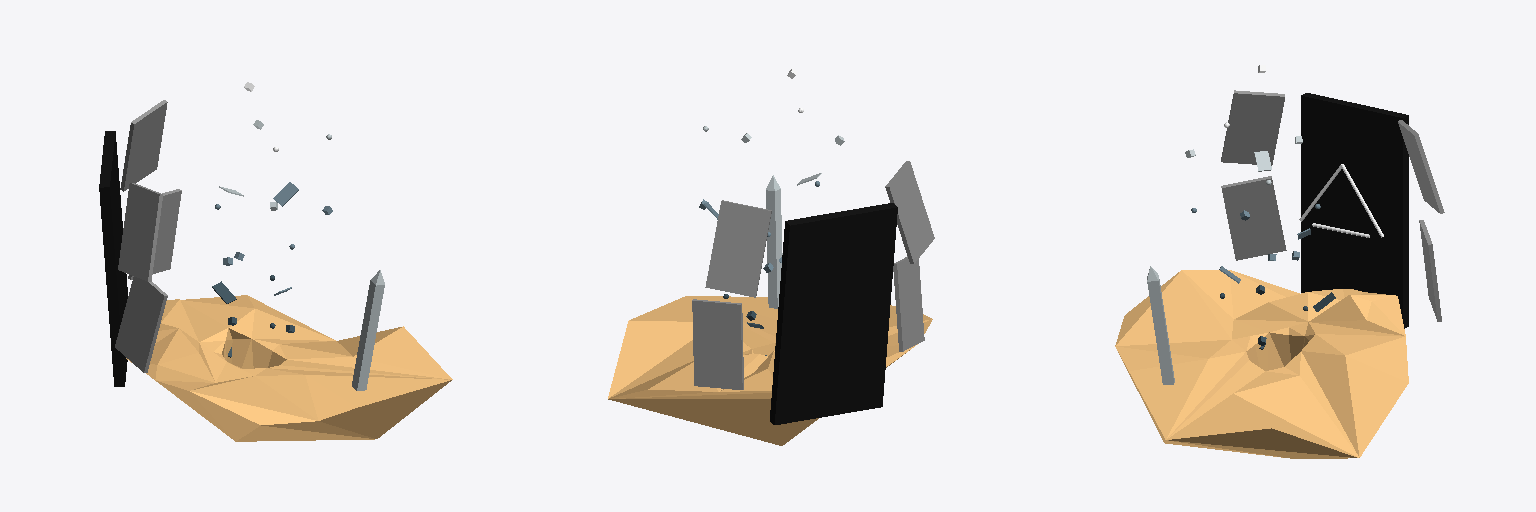
3 views of the same model, side by side, from view 1: azimuth 30°, elevation 25°; view 2: azimuth 150°, elevation 25°; view 3: azimuth 270°, elevation 25° (orthographic).
Parts seen in each view (by area): view 1: group[number redacted], group[number redacted], group[number redacted], group[number redacted], group[number redacted], group[number redacted], group[number redacted]; view 2: group[number redacted], group[number redacted], group[number redacted], group[number redacted], group[number redacted], group[number redacted], group[number redacted]; view 3: group[number redacted], group[number redacted], group[number redacted], group[number redacted], group[number redacted], group[number redacted], group[number redacted].
Part boxes in pixels (x1,y1,x2,y2): group[number redacted]: (126,295,452,441); group[number redacted]: (99,131,127,386); group[number redacted]: (118,183,162,281); group[number redacted]: (115,277,167,372); group[number redacted]: (120,100,167,191); group[number redacted]: (352,270,384,390); group[number redacted]: (128,189,181,279); group[number redacted]: (770,203,897,424); group[number redacted]: (608,296,932,445); group[number redacted]: (705,200,771,297); group[number redacted]: (692,299,743,389); group[number redacted]: (885,161,934,263); group[number redacted]: (893,256,924,351); group[number redacted]: (766,175,782,308); group[number redacted]: (1115,270,1408,458); group[number redacted]: (1301,93,1408,328); group[number redacted]: (1221,176,1286,260); group[number redacted]: (1221,90,1284,165); group[number redacted]: (1147,266,1174,384); group[number redacted]: (1398,120,1444,213); group[number redacted]: (1419,220,1441,321).
Size of the model in its own units: 4.58 by 5.61 by 4.56.